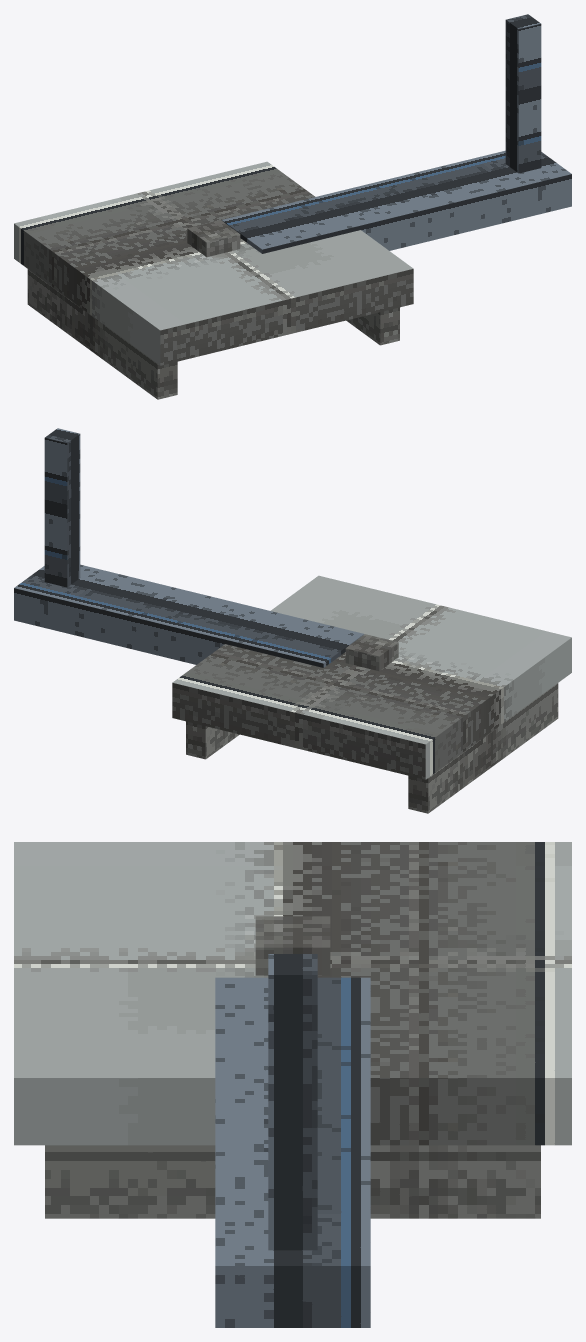
The model's file is yk_gantry_anchor.glb.
3 renders of one model, top to bottom at view 1: azimuth 30°, elevation 25°; view 2: azimuth 150°, elevation 25°; view 3: azimuth 270°, elevation 25°, orthographic. The views are drawn at different scales.
Visible parts, largest first — view 1: anchor_soffit, anchor_arm, anchor_stay, anchor_collar_-1, anchor_lamp, anchor_collar_1; view 2: anchor_soffit, anchor_arm, anchor_stay, anchor_collar_-1, anchor_lamp, anchor_collar_1; view 3: anchor_soffit, anchor_arm, anchor_collar_1, anchor_stay, anchor_lamp.
Boxes of the visible parts, x1,y1,x2,y2 form: anchor_soffit: [14, 161, 413, 365]; anchor_arm: [221, 150, 571, 253]; anchor_stay: [505, 14, 541, 173]; anchor_collar_-1: [27, 269, 177, 399]; anchor_lamp: [187, 220, 240, 257]; anchor_collar_1: [346, 307, 399, 345]; anchor_soffit: [172, 575, 571, 779]; anchor_arm: [14, 564, 364, 667]; anchor_stay: [44, 428, 80, 587]; anchor_collar_-1: [408, 683, 558, 813]; anchor_lamp: [345, 634, 398, 671]; anchor_collar_1: [186, 721, 239, 759]; anchor_soffit: [14, 842, 571, 1145]; anchor_arm: [215, 977, 370, 1327]; anchor_collar_1: [45, 1145, 540, 1218]; anchor_stay: [268, 954, 317, 1250]; anchor_lamp: [255, 916, 330, 975].
Bounding box in the file's own units: 3.3 × 1.53 × 1.8.
3 materials, 3 textured.
